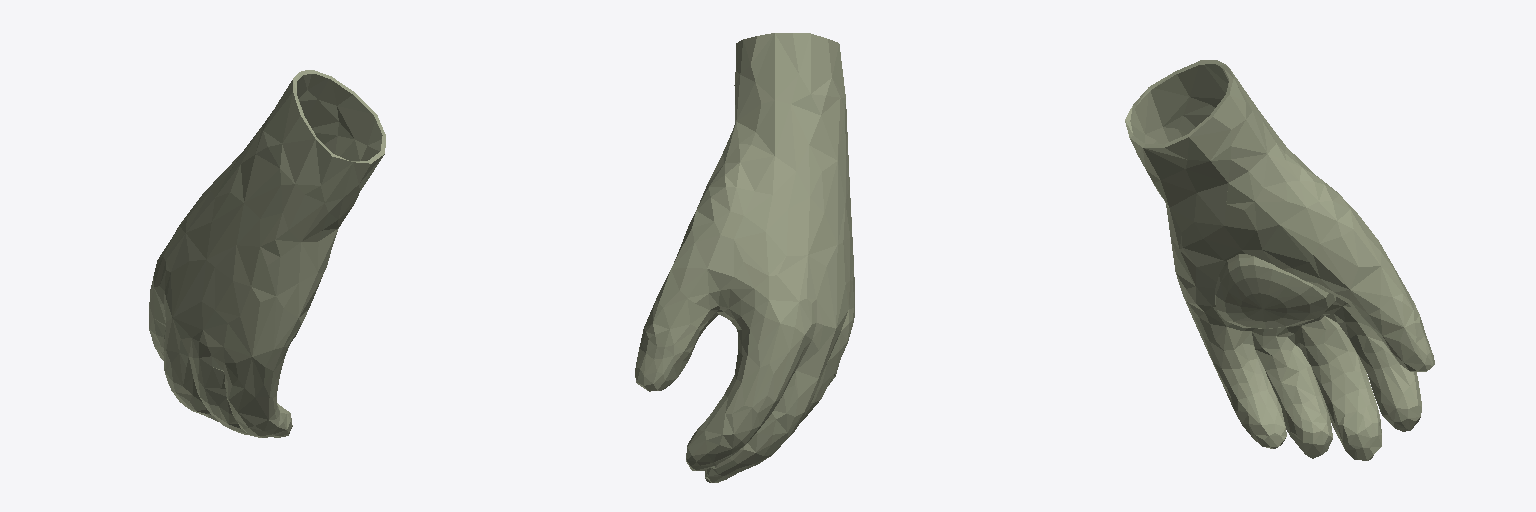
Rendered from hands-to-gloves.obj.
The picture shows the model from 3 angles: view 1: azimuth 30°, elevation 25°; view 2: azimuth 150°, elevation 25°; view 3: azimuth 270°, elevation 25°; orthographic projection.
Parts seen in each view (by area): view 1: Hands_Material.000001_default_default.000_Hands_Material.000001_; view 2: Hands_Material.000001_default_default.000_Hands_Material.000001_; view 3: Hands_Material.000001_default_default.000_Hands_Material.000001_.
Part boxes in pixels (x1,y1,x2,y2): Hands_Material.000001_default_default.000_Hands_Material.000001_: (149,70,385,437); Hands_Material.000001_default_default.000_Hands_Material.000001_: (635,33,854,482); Hands_Material.000001_default_default.000_Hands_Material.000001_: (1125,60,1434,460).
Bounding box in the file's own units: 7.83 × 19.68 × 13.88.